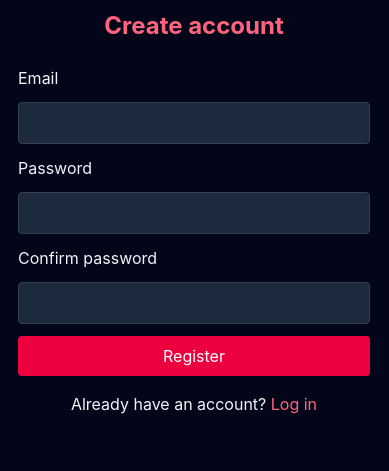
Test: shows an error when the password is too short
The image size is (389, 471).
In the field labelled "Email": (194, 123) [18,102,370,144], type "a@b.com"
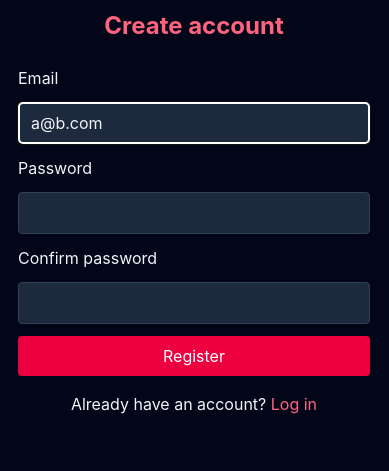
In the password field labelled "Password": (194, 213) [18,192,370,234], type "123"
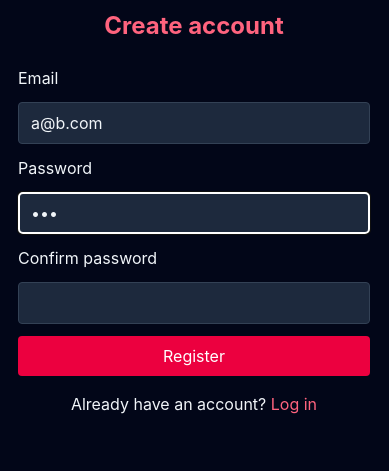
In the password field labelled "Confirm password": (194, 303) [18,282,370,324], type "123"
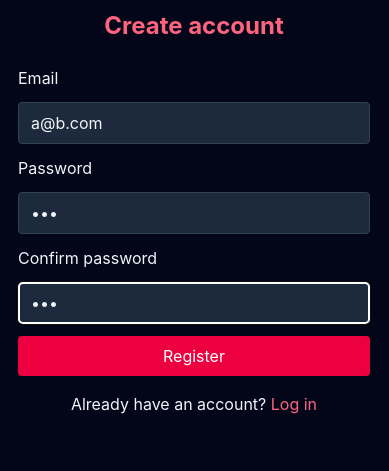
Click the button "Register": (194, 356) [18,336,370,376]
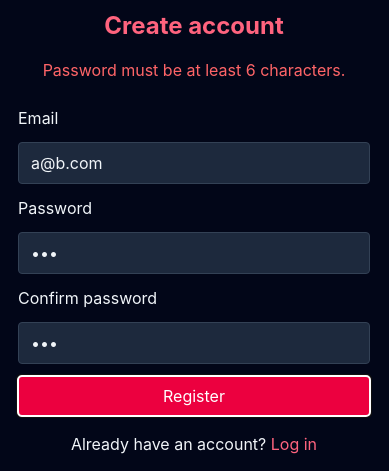
Expected: the text "Password must be at least 6 characters." is shown, [18,58,370,82]
